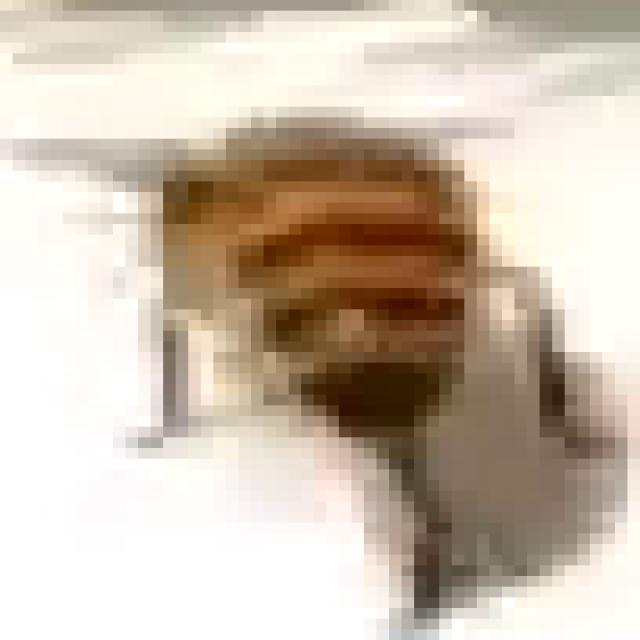honeybee: (138, 68, 570, 502)
